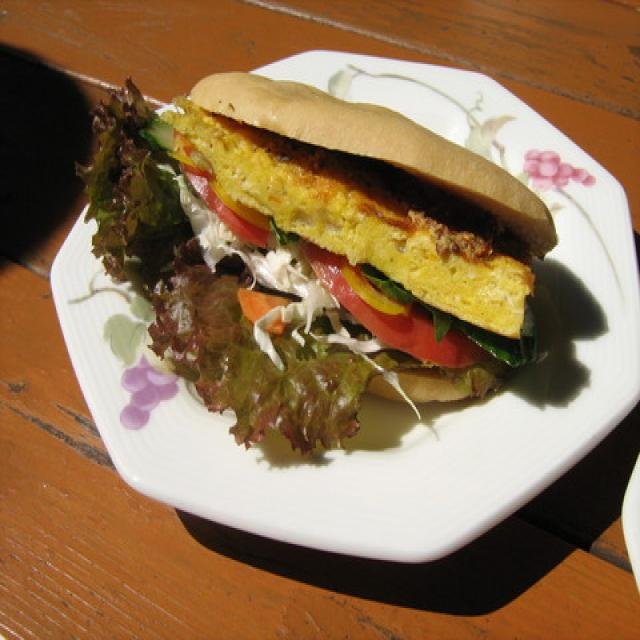三明治: (112, 66, 556, 448)
